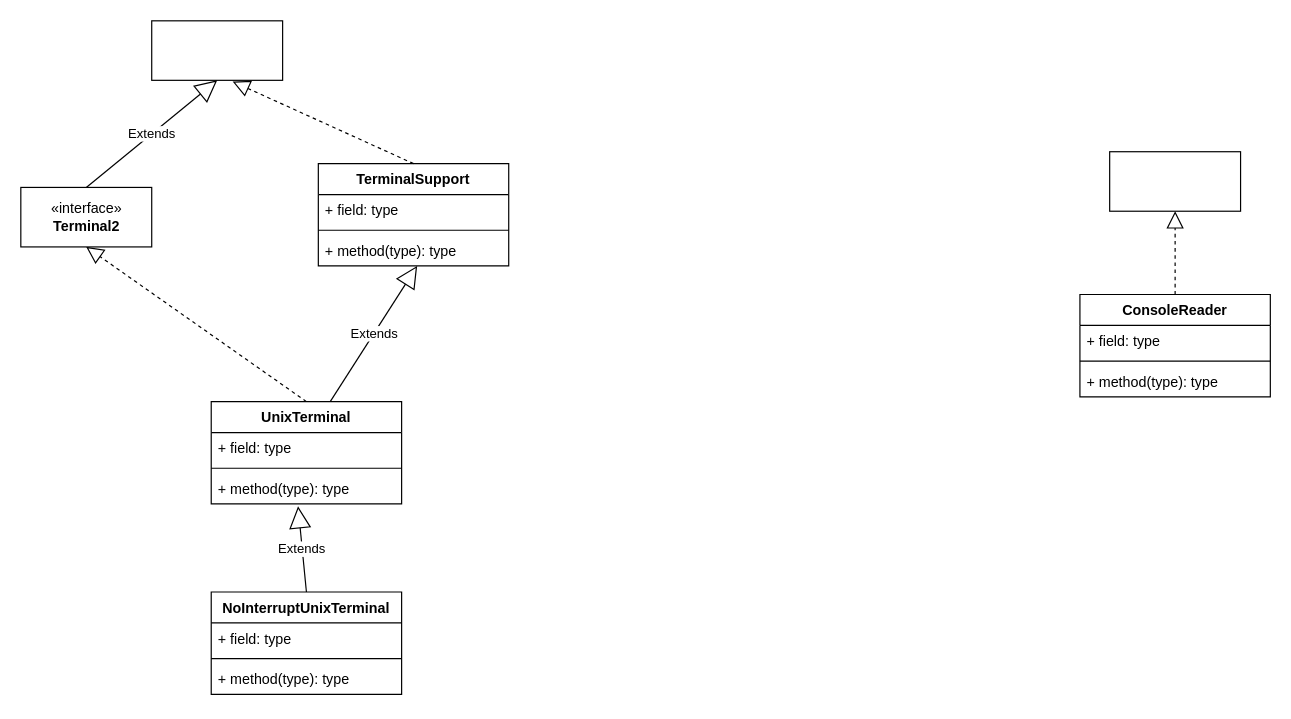
Some shapes in this 1291 by 719 pixel diagram are drawn without their labels. The shapes that lost their labels are listed below. From the top down, each one's centre as x and y in pixels, then its label:
pixel 217 50: «interface» Terminal
pixel 1174 181: «interface» Closeable
